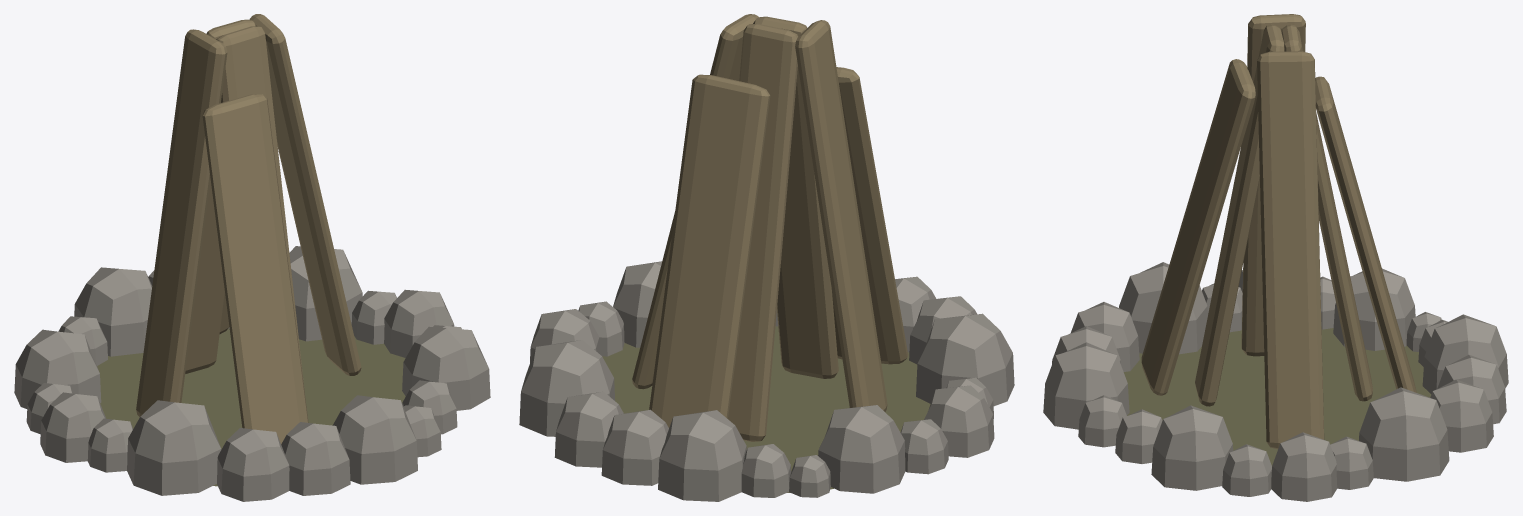
File: Fireplace.fbx
3 renders of one model, left to right at view 1: azimuth 30°, elevation 25°; view 2: azimuth 150°, elevation 25°; view 3: azimuth 270°, elevation 25°, orthographic. The views are drawn at different scales.
Visible parts, largest first — view 1: pCube127; view 2: pCube127; view 3: pCube127.
Boxes of the visible parts, x1,y1,x2,y2 form: pCube127: (14,14,490,501); pCube127: (519,14,1014,501); pCube127: (1043,14,1508,501).
Bounding box in the file's own units: 203 × 171 × 198.
